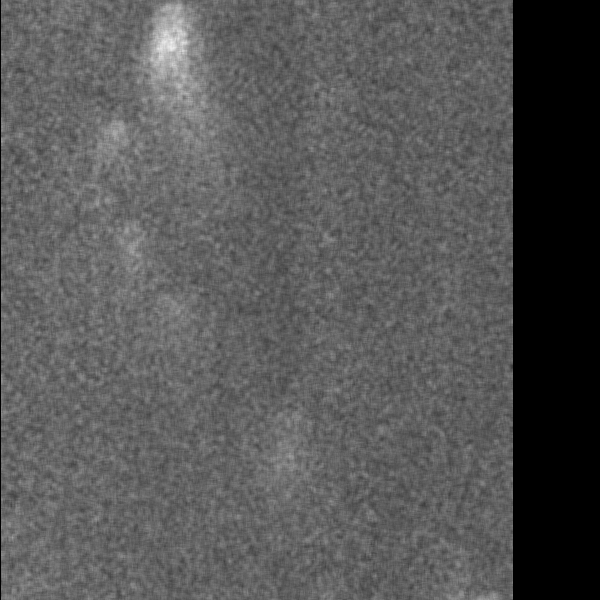spark: (139, 5, 196, 122), (100, 109, 127, 190), (272, 433, 298, 509)
